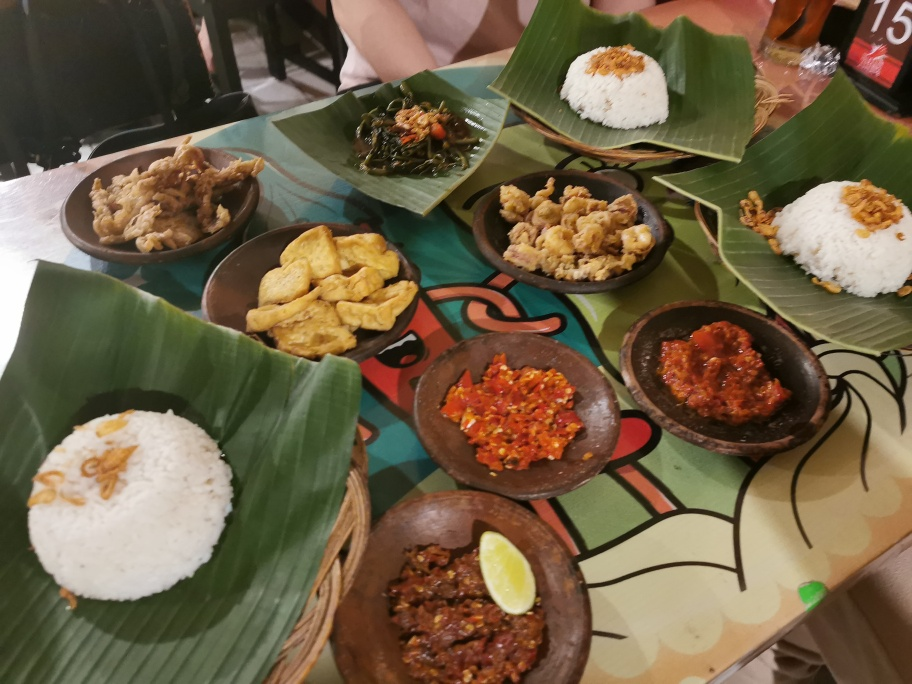nasi putih: (1, 398, 245, 603), (776, 172, 912, 300), (550, 39, 681, 134)
